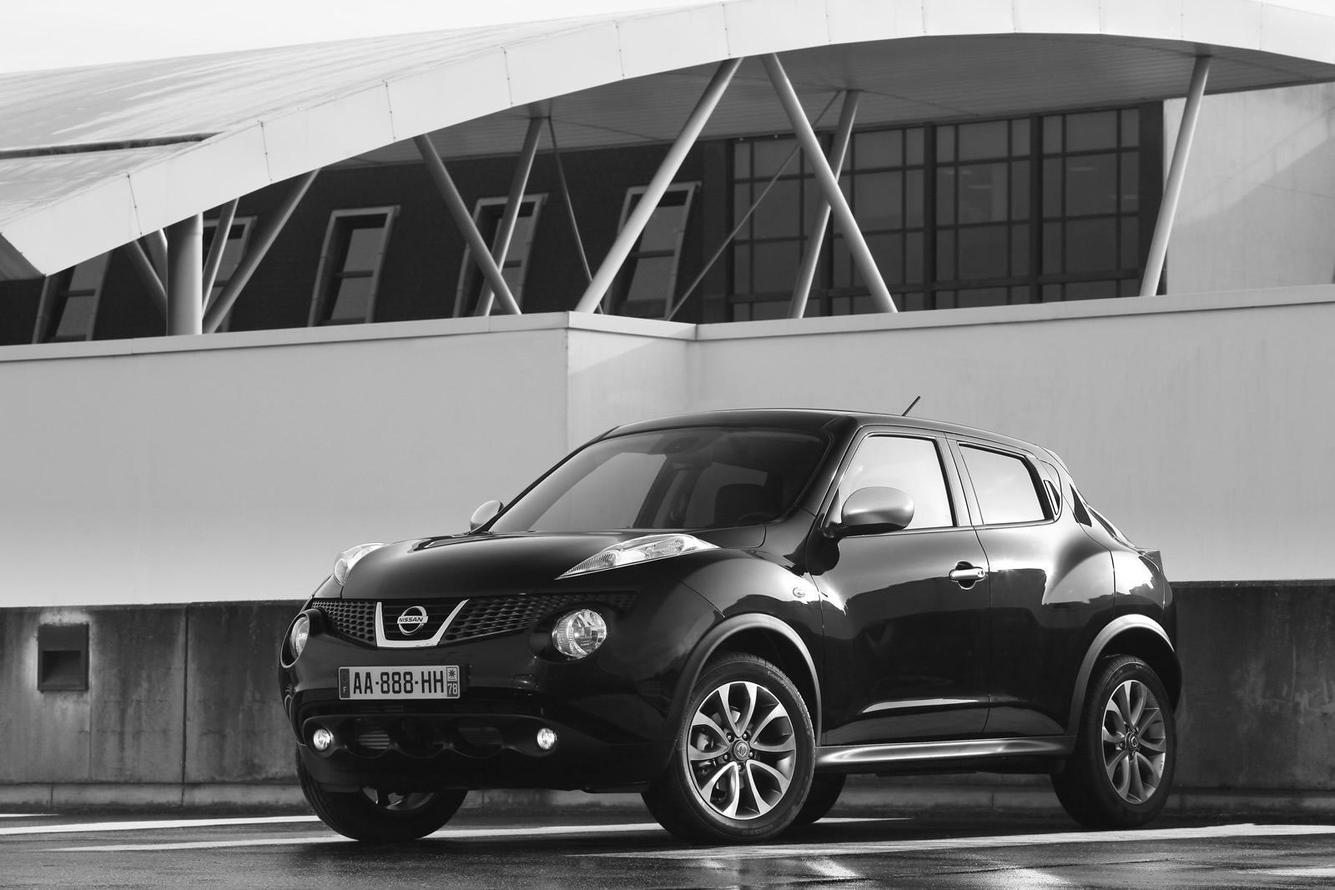car: (283, 414, 1183, 852)
